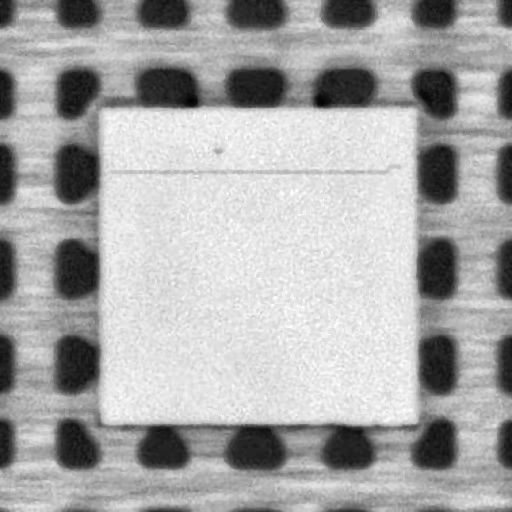DIE_CRACK: (108, 162, 410, 177)
